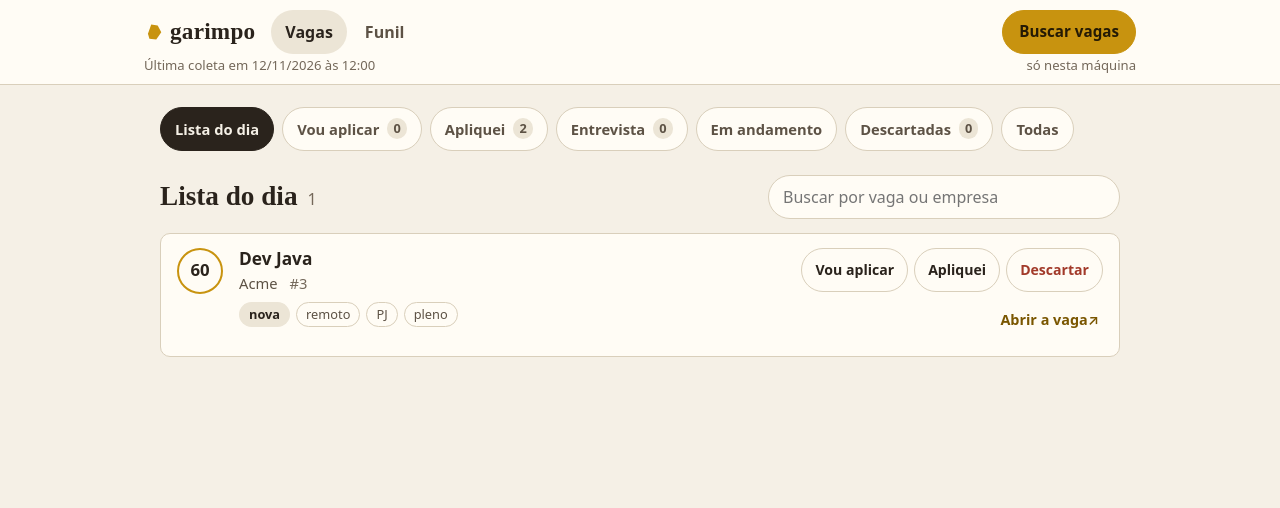
Test: the daily list › filters by state and by text
The width and height of the screenshot is (1280, 508).
Check: the heading "Dev Java" is shown, box top-left (239, 247), bottom-right (312, 270)
Step 1. Click the link "Apliquei 2" → (489, 129), box top-left (430, 107), bottom-right (548, 151)
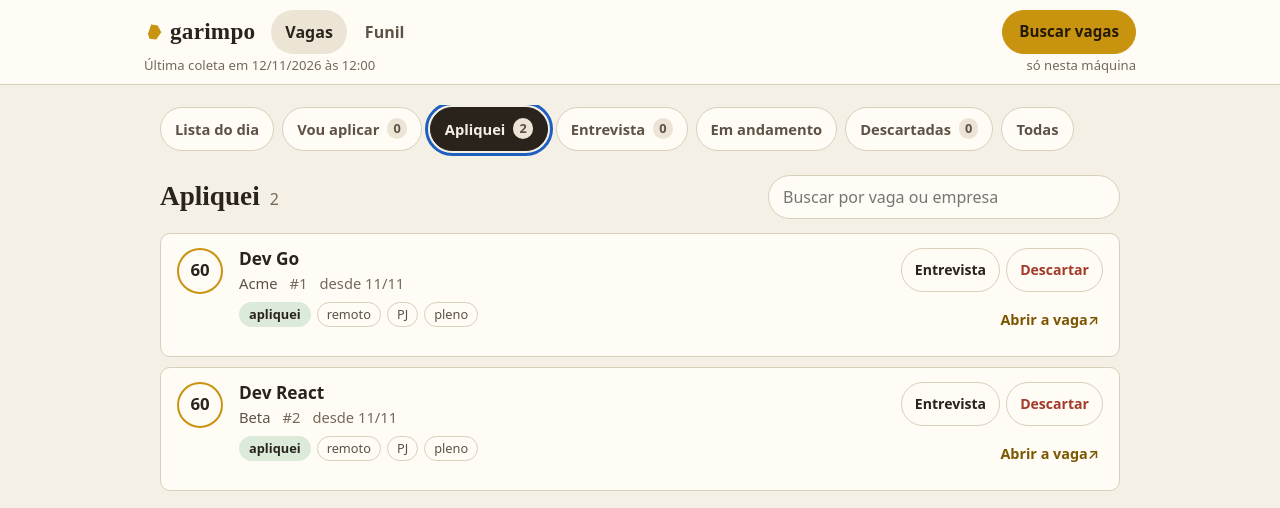
Check: the heading "Apliquei2" is shown, box top-left (160, 180), bottom-right (279, 213)
Step 2. Type "beta" into the search field → (944, 197), box top-left (768, 175), bottom-right (1120, 219)
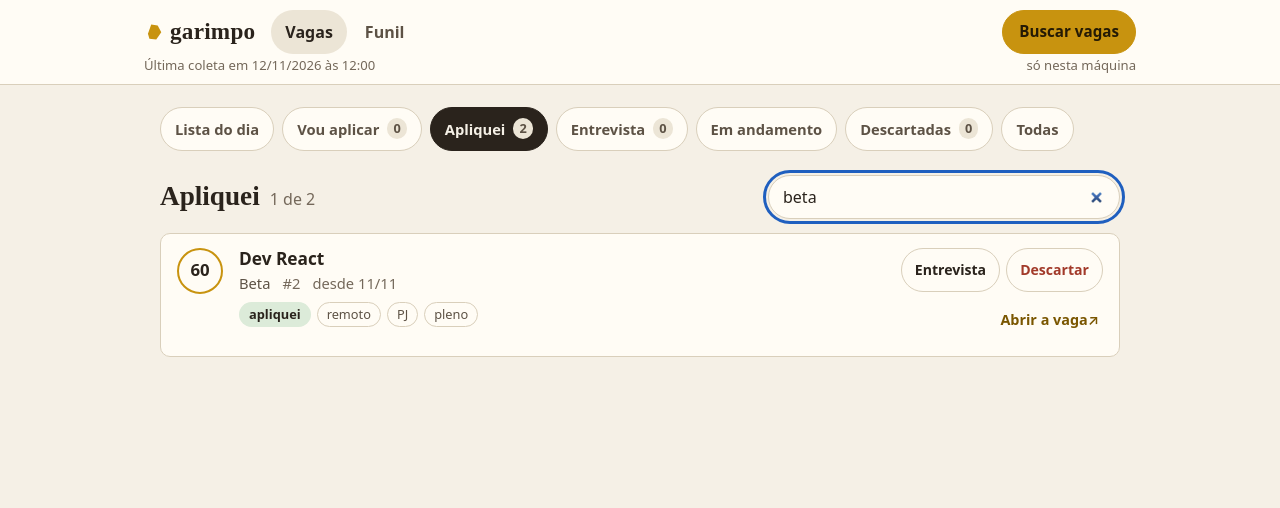
Step 3. Replace the text in the search field with "cobol" → (944, 197), box top-left (768, 175), bottom-right (1120, 219)
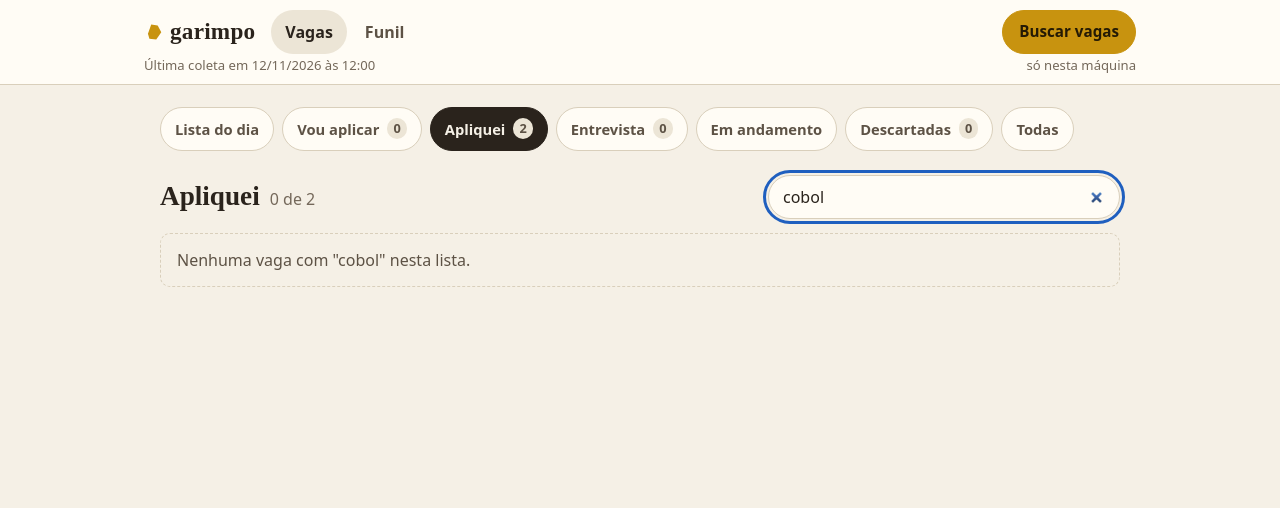
Check: the text "Nenhuma vaga com \"cobol\" nesta lista." is shown, box top-left (160, 233), bottom-right (1120, 287)
